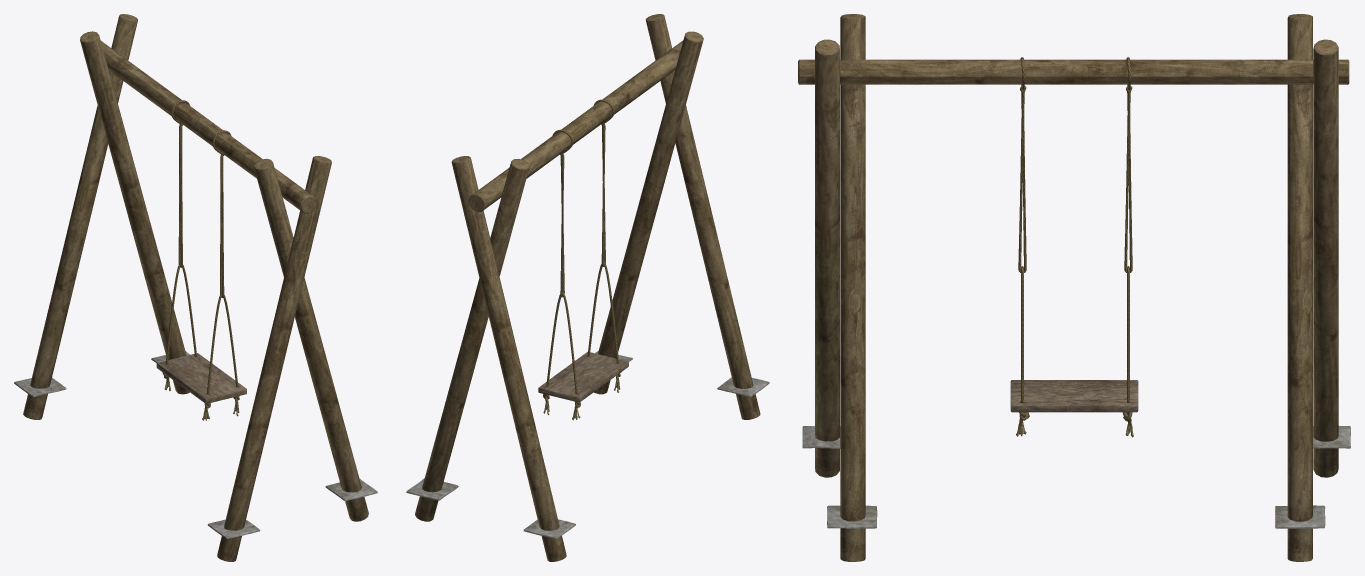
Rendered from Swing.glb.
3 renders of one model, left to right at view 1: azimuth 30°, elevation 25°; view 2: azimuth 150°, elevation 25°; view 3: azimuth 270°, elevation 25°, orthographic. The views are drawn at different scales.
Visible parts, largest first — view 1: Line056_Material_0_0; view 2: Line056_Material_0_0; view 3: Line056_Material_0_0.
Boxes of the visible parts, x1,y1,x2,y2 form: Line056_Material_0_0: (14, 14, 377, 561); Line056_Material_0_0: (406, 14, 769, 561); Line056_Material_0_0: (798, 14, 1350, 561).
Size of the model in its own units: 1.13 by 2.54 by 2.6.
1 material, 1 textured.
